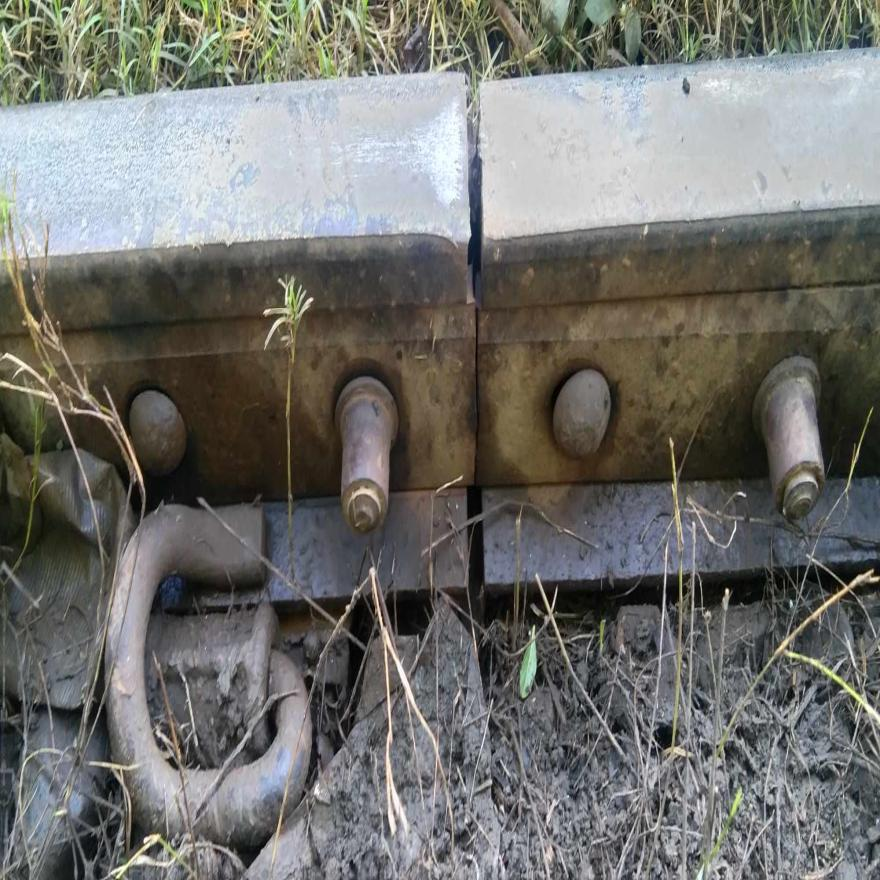railway-gap: (408, 66, 544, 308)
